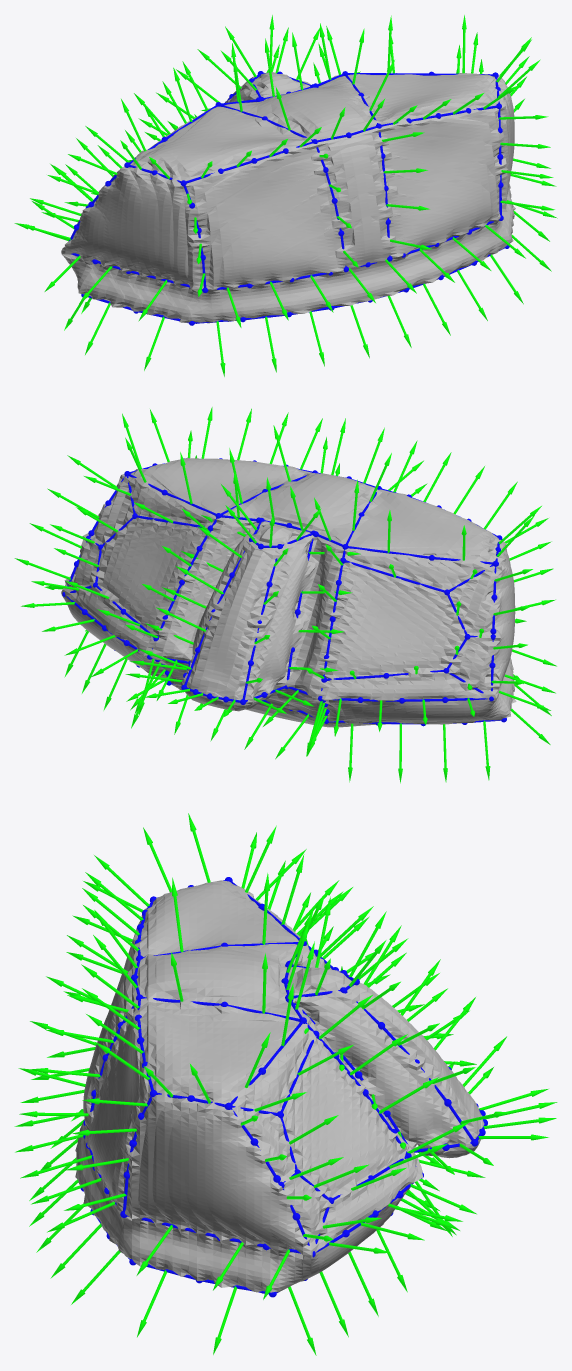
Rendered from ils_speaker.gltf.
3 views of the same model, one above another, from view 1: azimuth 30°, elevation 25°; view 2: azimuth 150°, elevation 25°; view 3: azimuth 270°, elevation 25° (orthographic). The views are drawn at different scales.
Bounding box in the file's own units: 0.9676 × 0.4548 × 0.709.
